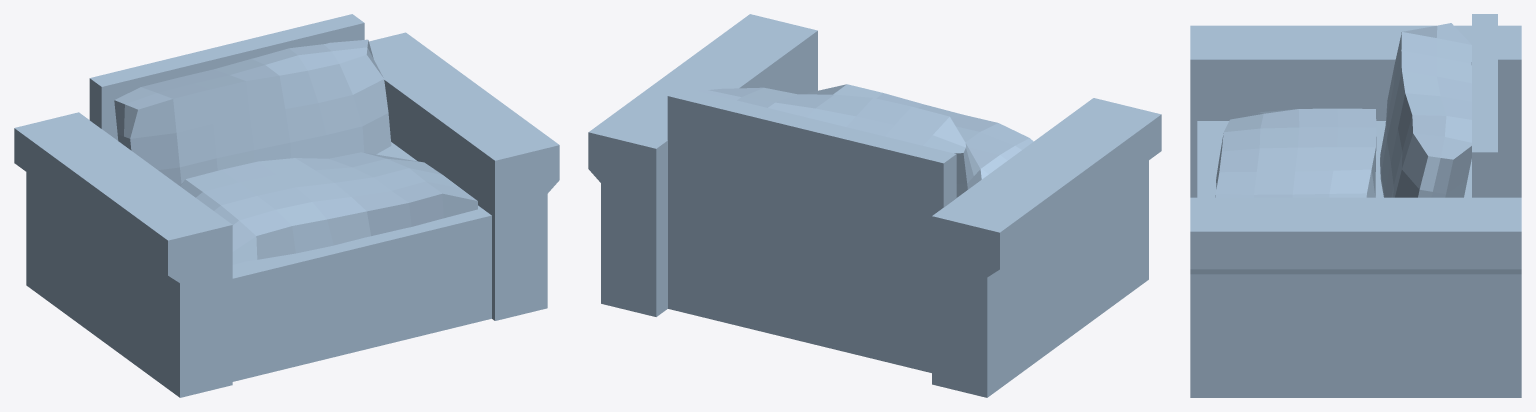
Rendered from armchair.glb.
3 views of the same model, side by side, from view 1: azimuth 30°, elevation 25°; view 2: azimuth 150°, elevation 25°; view 3: azimuth 270°, elevation 25° (orthographic). The views are drawn at different scales.
Parts seen in each view (by area): view 1: Cube.012; view 2: Cube.012; view 3: Cube.012.
Boxes of the visible parts, x1=… form: Cube.012: x1=14, y1=14, x2=559, y2=397; Cube.012: x1=588, y1=14, x2=1161, y2=397; Cube.012: x1=1190, y1=14, x2=1521, y2=397.
Bounding box in the file's own units: 2.26 × 1.13 × 1.53.
